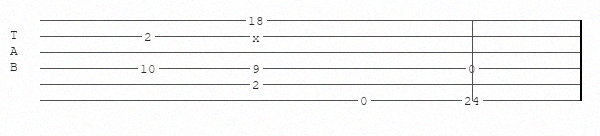0: (360, 94, 372, 106), (468, 62, 480, 74)
10: (140, 62, 160, 74)
18: (248, 14, 268, 26)
2: (144, 30, 156, 42), (252, 78, 264, 90)
24: (464, 94, 484, 106)
9: (252, 62, 264, 74)
x: (252, 31, 264, 41)
